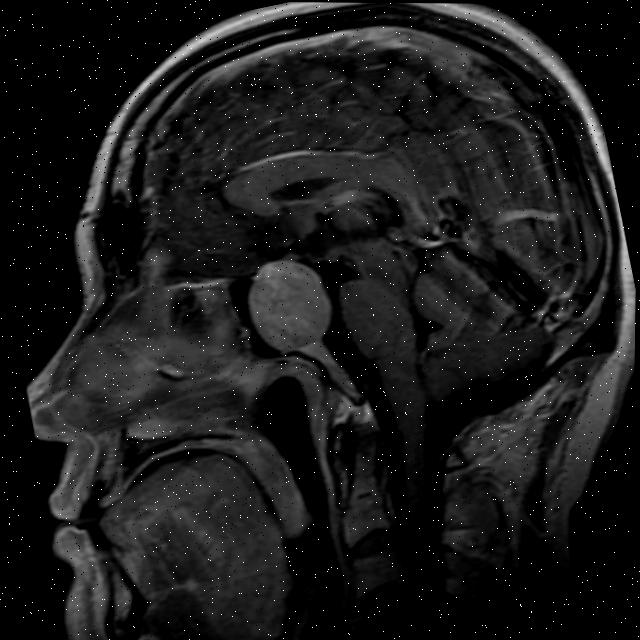Pituitary: (240, 250, 342, 360)
